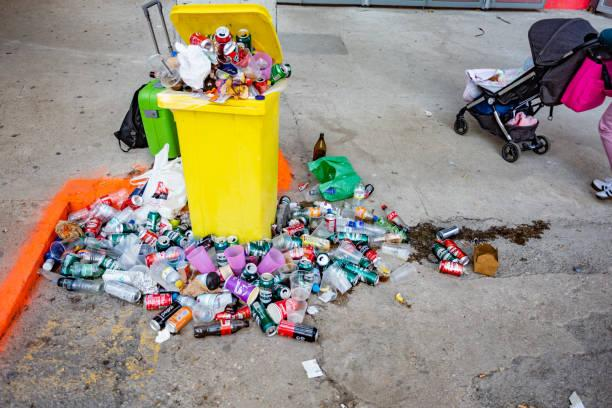trash: (33, 159, 194, 328), (120, 231, 337, 343), (282, 184, 388, 287), (116, 57, 190, 173), (166, 32, 270, 95), (441, 222, 501, 282), (300, 143, 362, 196), (383, 199, 414, 284), (140, 56, 197, 84), (386, 288, 419, 310), (294, 356, 323, 378), (561, 391, 591, 408)
trash_can_overflow: (46, 11, 429, 359)
